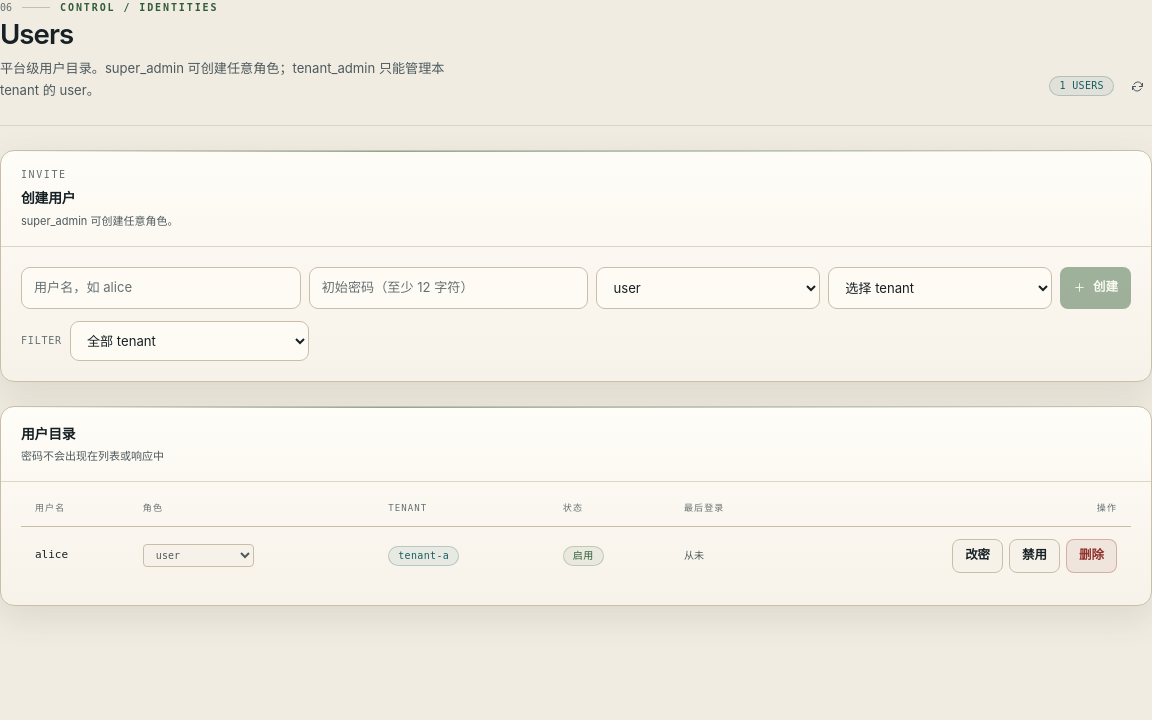
Test: Users page password reset dialog › keeps the dialog open and shows the server error when reset fails
Click the button "改密": (978, 556) [952,538,1003,572]
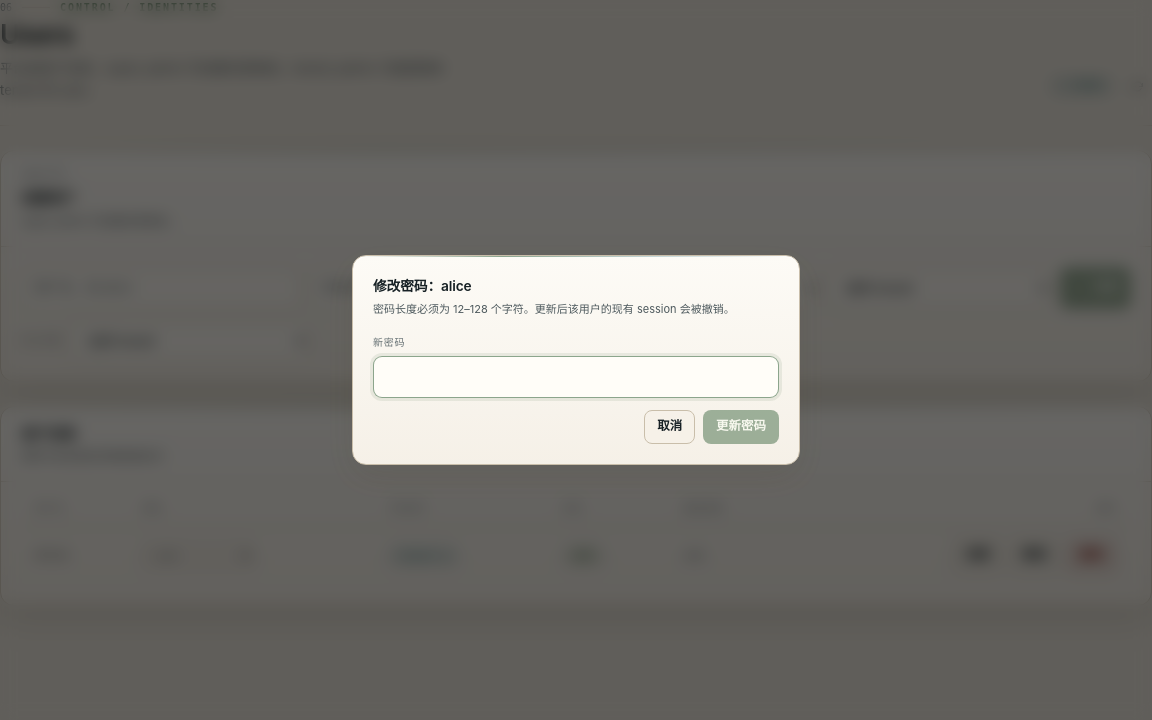
In the password field labelled "新密码": (576, 377) [373,356,779,398], type "correct horse battery"
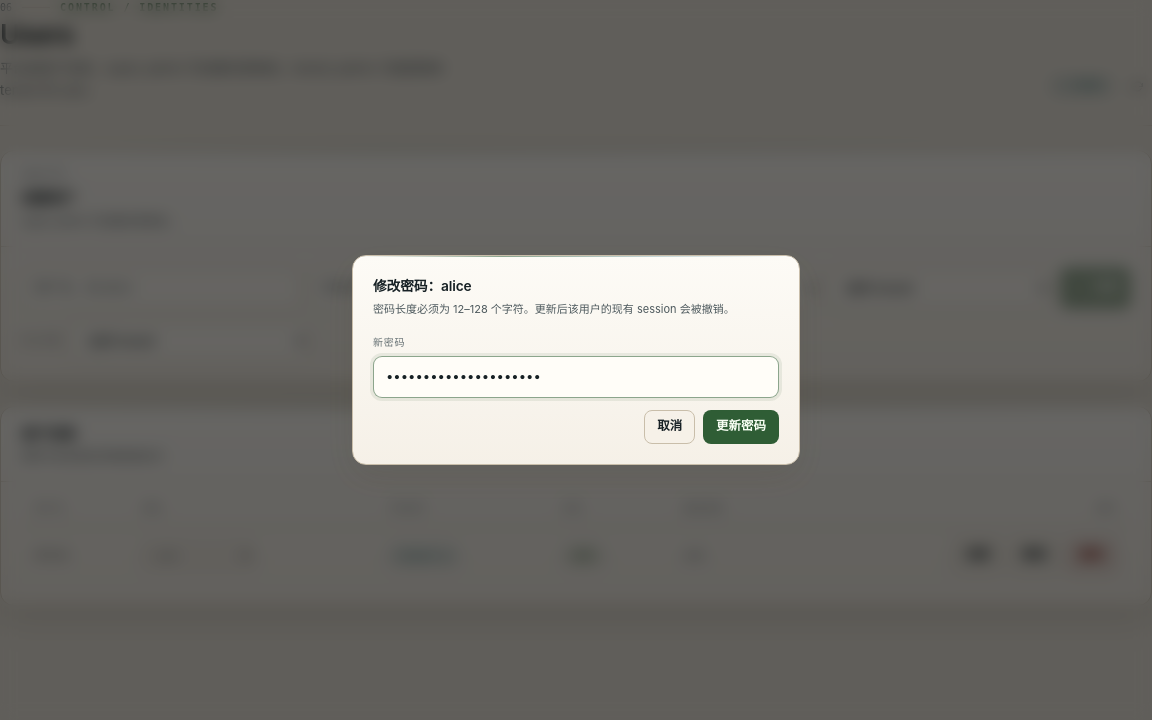
Click the button "更新密码": (741, 427) [703,410,779,444]
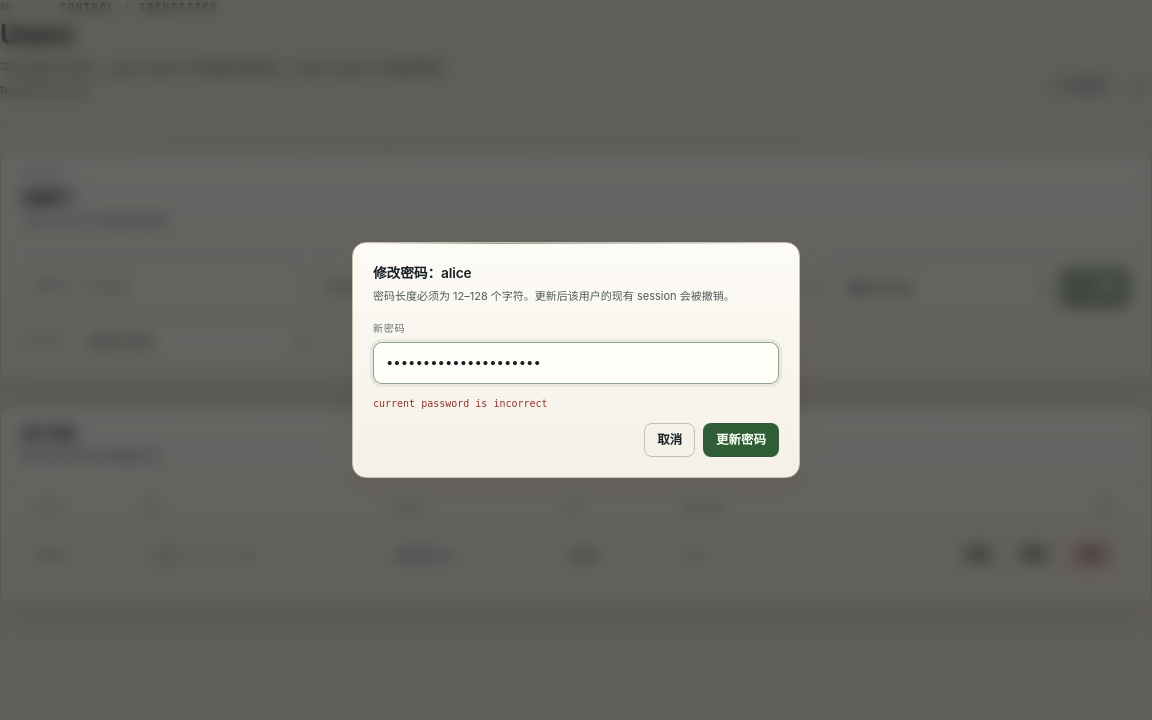
Now the dialog "修改密码：alice" is shown, box [352,242,800,478]
Now the text "current password is incorrect" is shown, box [373,398,548,409]
